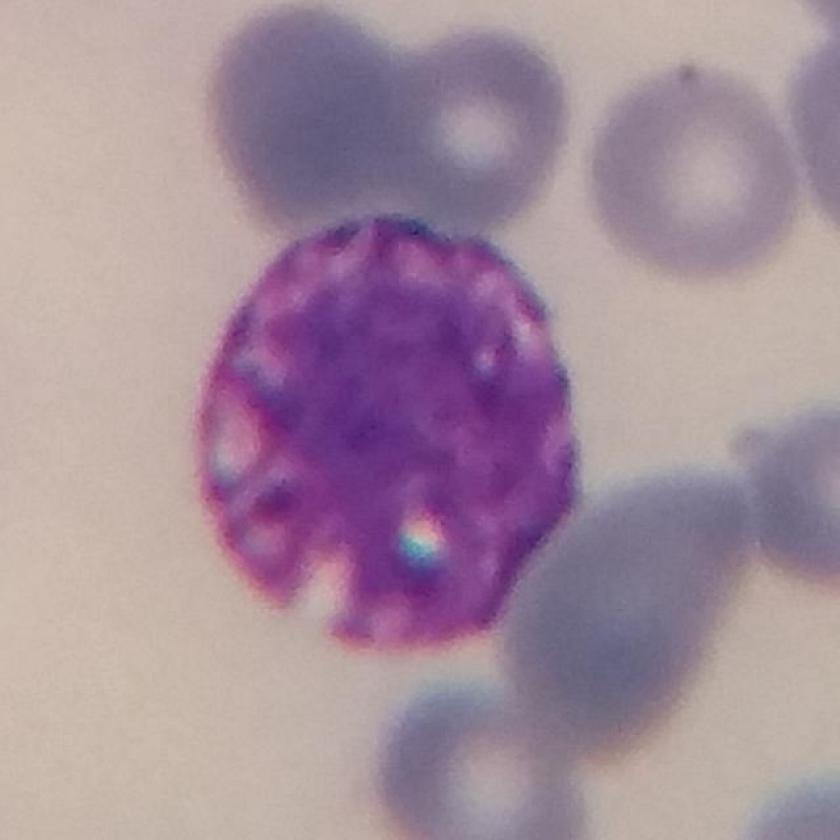basophil: (186, 189, 594, 660)
